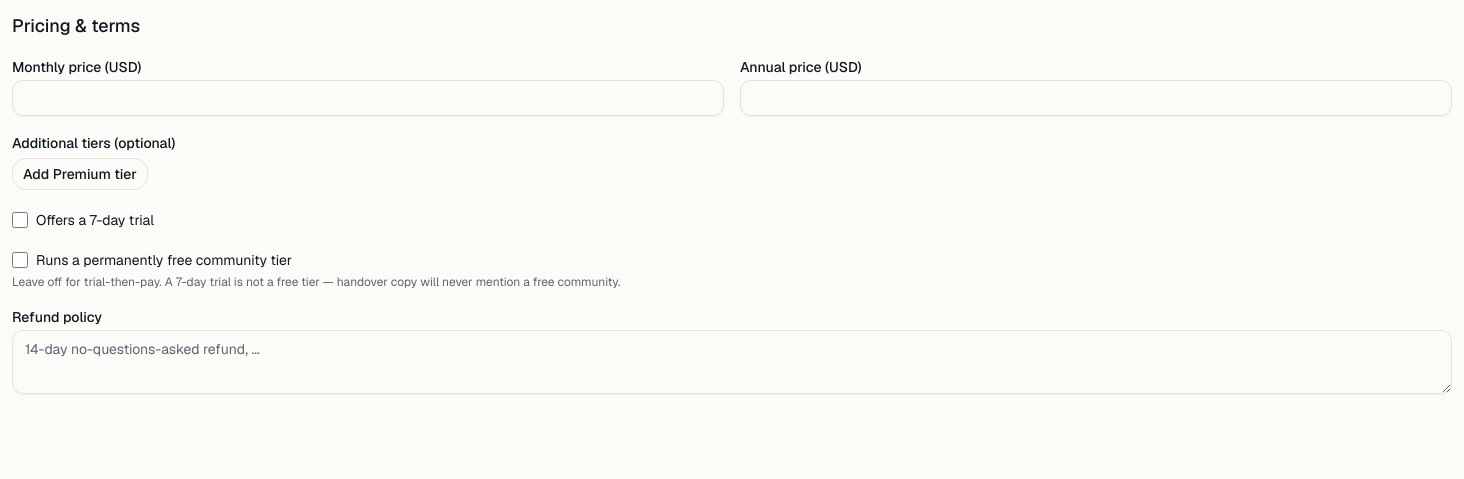
Step3Pricing — additional tiers › clicking 'Add Premium tier' shows a Premium row with a price input and a Remove button
Click the button "Add Premium tier" at (80,174), box [12,158,148,190]
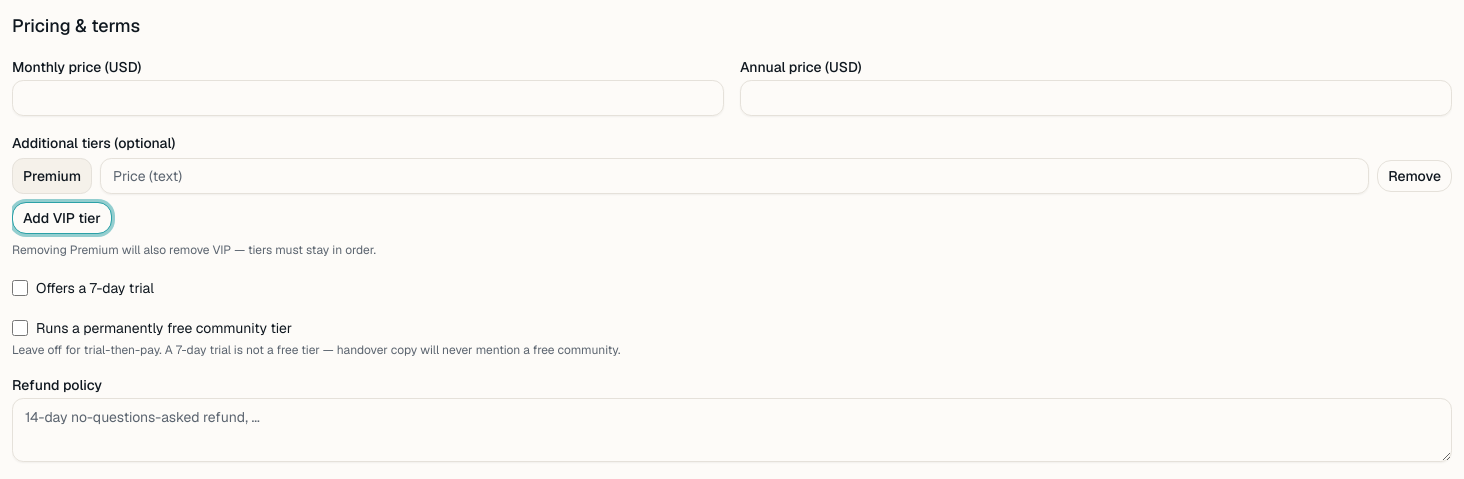
Check: the text named "Premium tier" is shown, box [12,158,92,194]
Check: the field named "Premium price" is shown, box [100,158,1369,194]
Check: the button "Remove" is shown, box [1377,160,1452,192]
